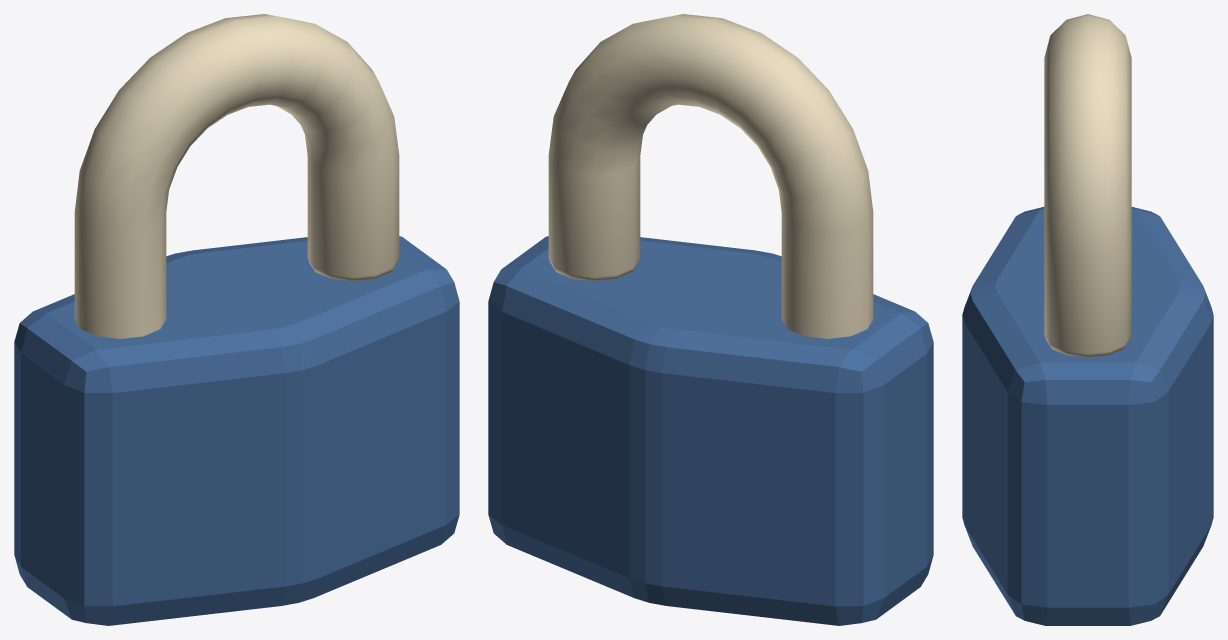
Rendered from IconLock.fbx.
3 renders of one model, left to right at view 1: azimuth 30°, elevation 25°; view 2: azimuth 150°, elevation 25°; view 3: azimuth 270°, elevation 25°, orthographic. The views are drawn at different scales.
Visible parts, largest first — view 1: Lock01, Lock02; view 2: Lock01, Lock02; view 3: Lock01, Lock02.
Part boxes in pixels (x1,y1,x2,y2): Lock01: [14, 236, 459, 625]; Lock02: [74, 14, 399, 338]; Lock01: [488, 236, 933, 625]; Lock02: [548, 14, 873, 338]; Lock01: [962, 207, 1213, 625]; Lock02: [1044, 14, 1131, 357].
Size of the model in its own units: 60.78 by 81.19 by 35.77.
1 material, 1 textured.
